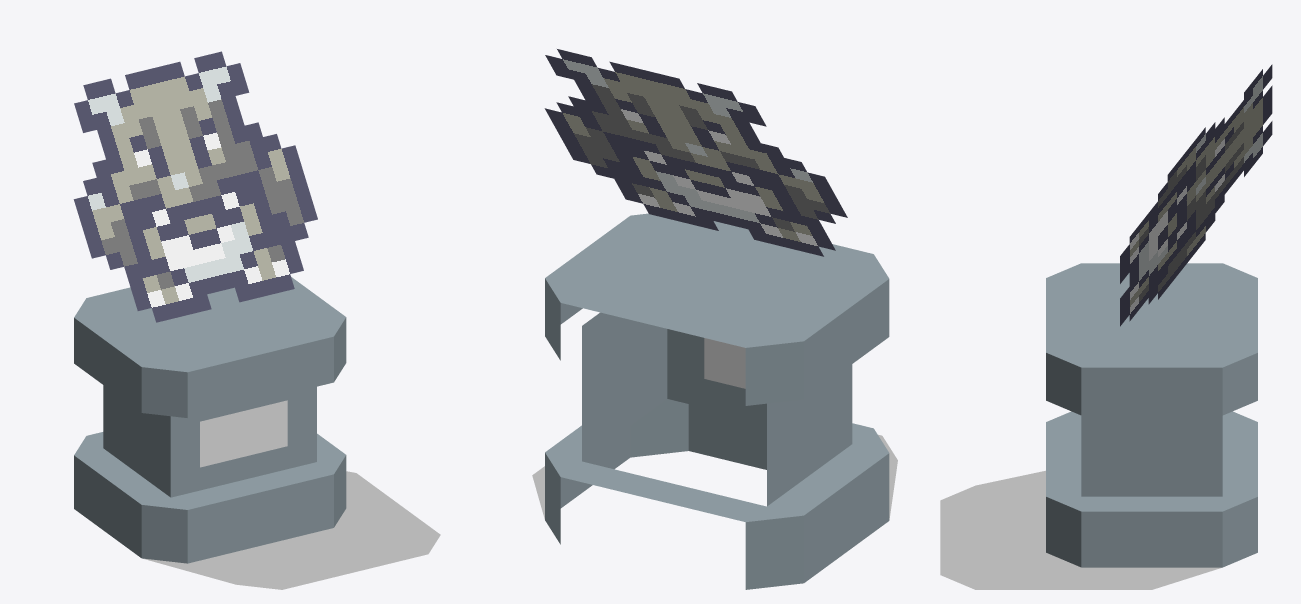
The picture shows the model from 3 angles, left to right: view 1: azimuth 30°, elevation 25°; view 2: azimuth 150°, elevation 25°; view 3: azimuth 270°, elevation 25°; orthographic projection. The views are drawn at different scales.
Parts seen in each view (by area): view 1: polygon0, polygon1, polygon2; view 2: polygon0, polygon1, polygon2; view 3: polygon0, polygon2, polygon1.
Part boxes in pixels (<box>): polygon0: <box>74,277,346,563</box>; polygon1: <box>73,51,317,322</box>; polygon2: <box>143,471,440,589</box>; polygon0: <box>545,213,889,589</box>; polygon1: <box>544,49,847,256</box>; polygon2: <box>532,434,897,519</box>; polygon0: <box>1046,263,1257,567</box>; polygon2: <box>940,470,1221,589</box>; polygon1: <box>1120,64,1272,326</box>.
Bounding box in the file's own units: 4.75 × 6.79 × 4.91.
